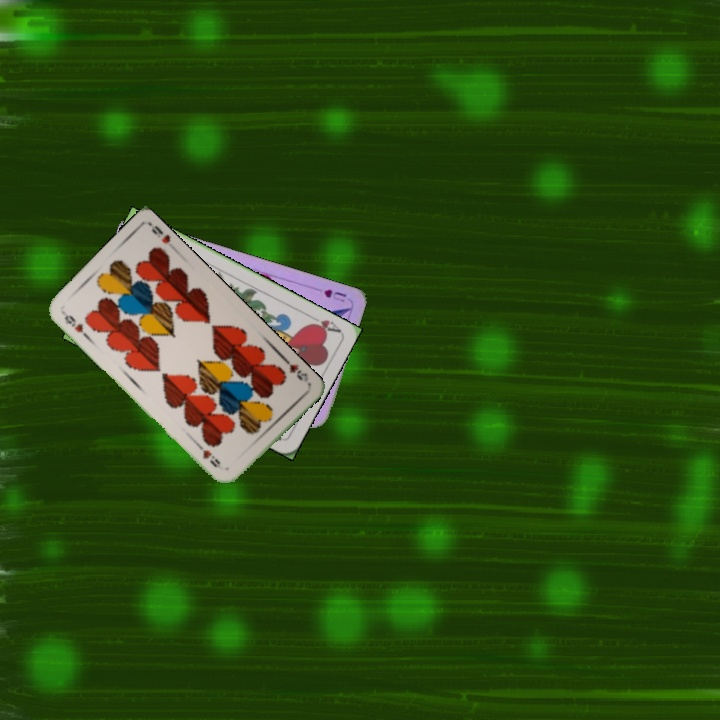H9: (279, 354, 311, 384), (59, 308, 86, 335)
HA: (304, 311, 343, 336)
HU: (320, 285, 349, 305)
